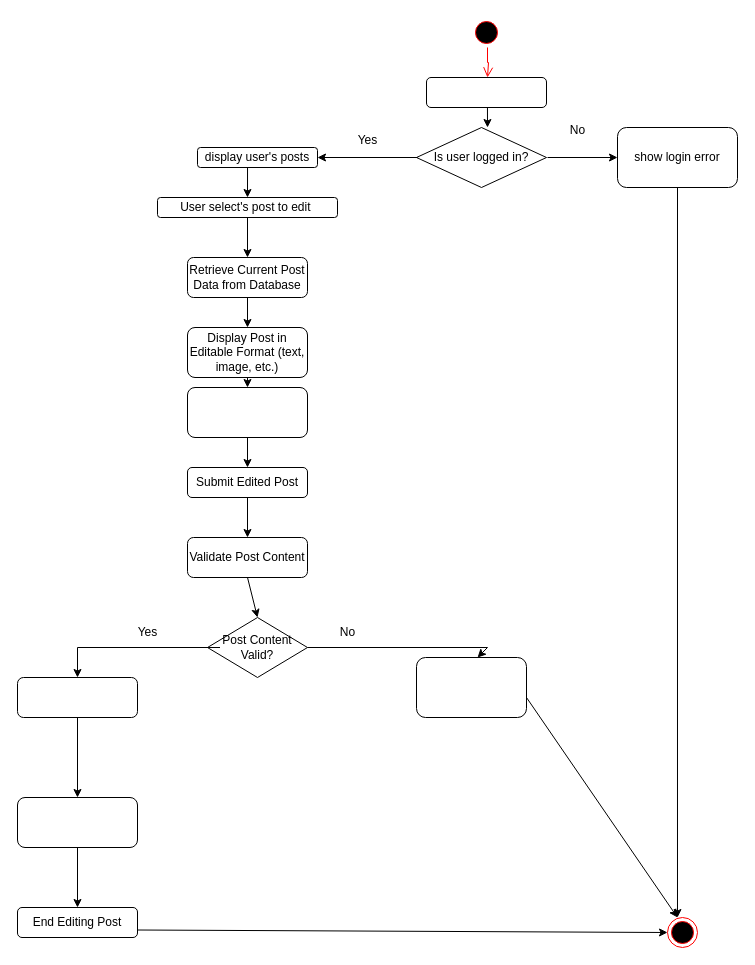
Some shapes in this 755 by 965 pixel diagram are drawn without their labels. The centre of each missing label's shape, as x and y in pixels:
Display Success Message (Post Updated): the point at 77,822
Log in to system: the point at 486,92
show error message " invalid Content": the point at 471,687
Update Post in Database: the point at 77,697
User makes edits to the post: the point at 247,412
